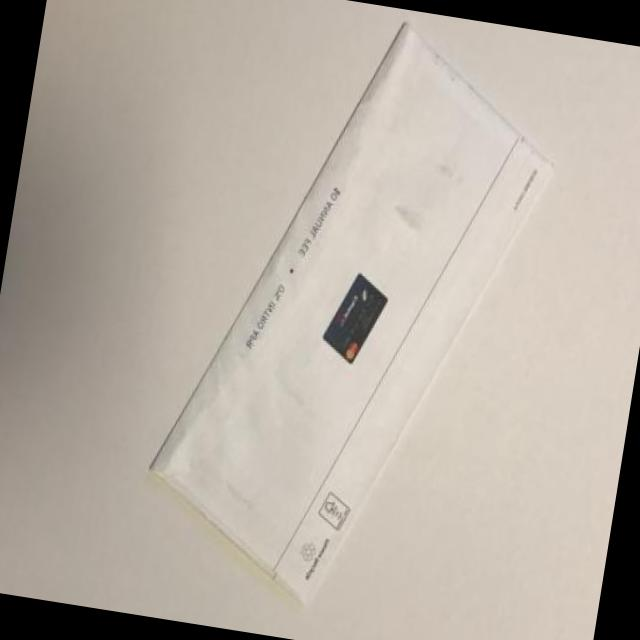paper: (161, 3, 616, 615)
